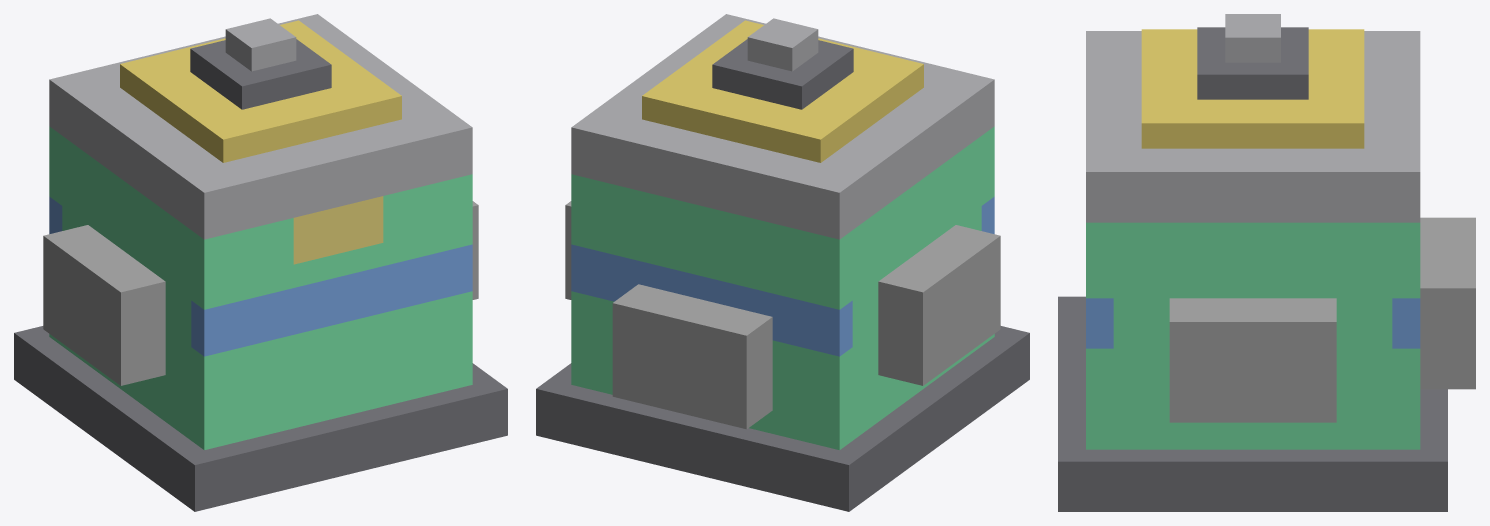
Rendered from assembler.glb.
The picture shows the model from 3 angles, left to right: view 1: azimuth 30°, elevation 25°; view 2: azimuth 150°, elevation 25°; view 3: azimuth 270°, elevation 25°; orthographic projection. The views are drawn at different scales.
Visible parts, largest first — view 1: VoxelModel; view 2: VoxelModel; view 3: VoxelModel.
Boxes of the visible parts, x1,y1,x2,y2 form: VoxelModel: (14, 14, 507, 511); VoxelModel: (536, 14, 1029, 511); VoxelModel: (1058, 14, 1475, 511).
Bounding box in the file's own units: 1 × 1 × 0.9375.
